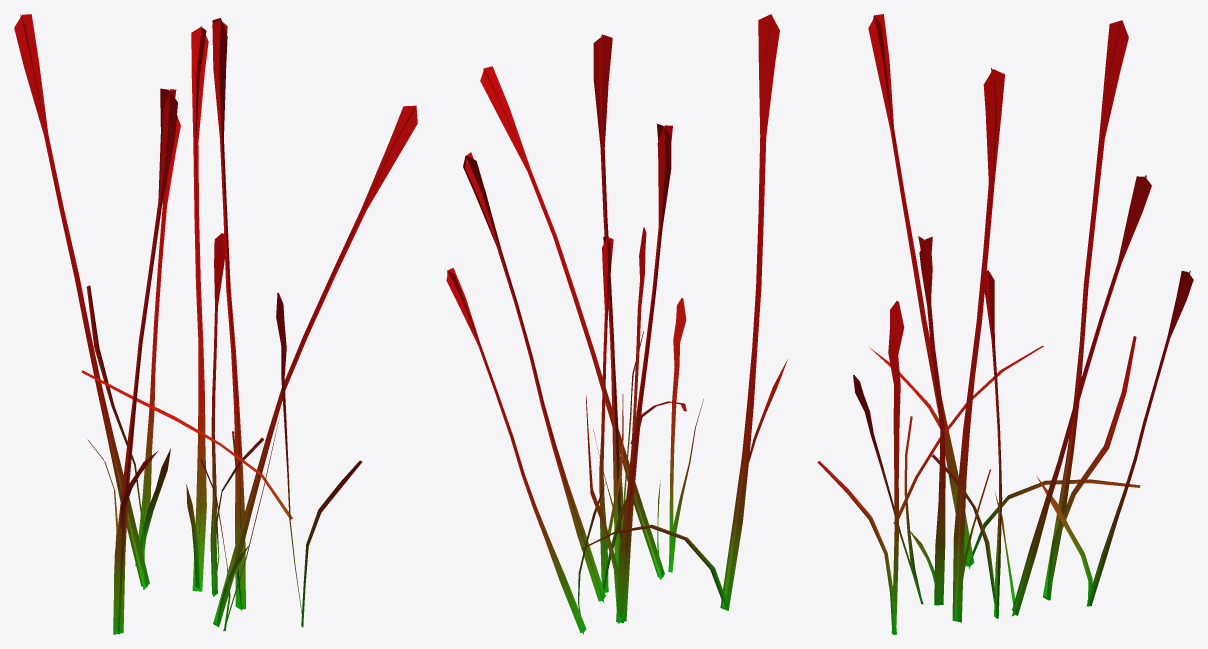
Rendered from Tundra Grass_LOD1_Var14_wk2oaeyqx.fbx.
3 renders of one model, left to right at view 1: azimuth 30°, elevation 25°; view 2: azimuth 150°, elevation 25°; view 3: azimuth 270°, elevation 25°, orthographic. The views are drawn at different scales.
Visible parts, largest first — view 1: _ccwb_Var14_LOD1; view 2: _ccwb_Var14_LOD1; view 3: _ccwb_Var14_LOD1.
Boxes of the visible parts, x1,y1,x2,y2 form: _ccwb_Var14_LOD1: (14, 14, 417, 634); _ccwb_Var14_LOD1: (446, 14, 787, 634); _ccwb_Var14_LOD1: (817, 14, 1193, 634).
Bounding box in the file's own units: 17.33 × 32.22 × 19.82.
